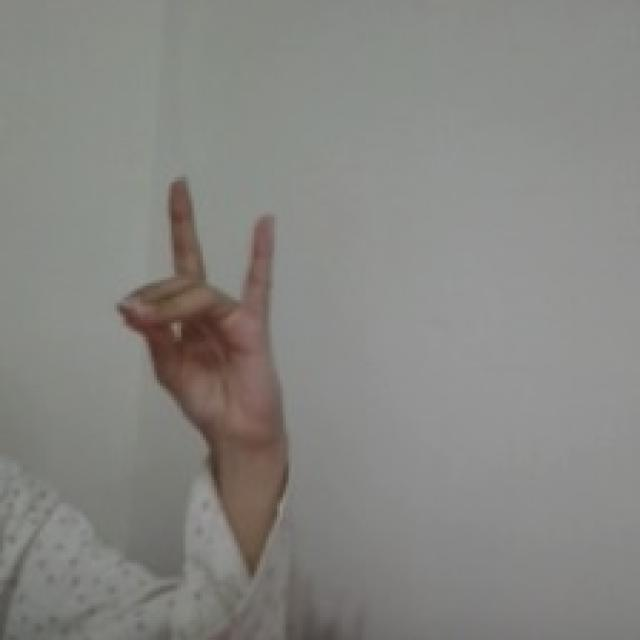Dog: (108, 170, 289, 452)
